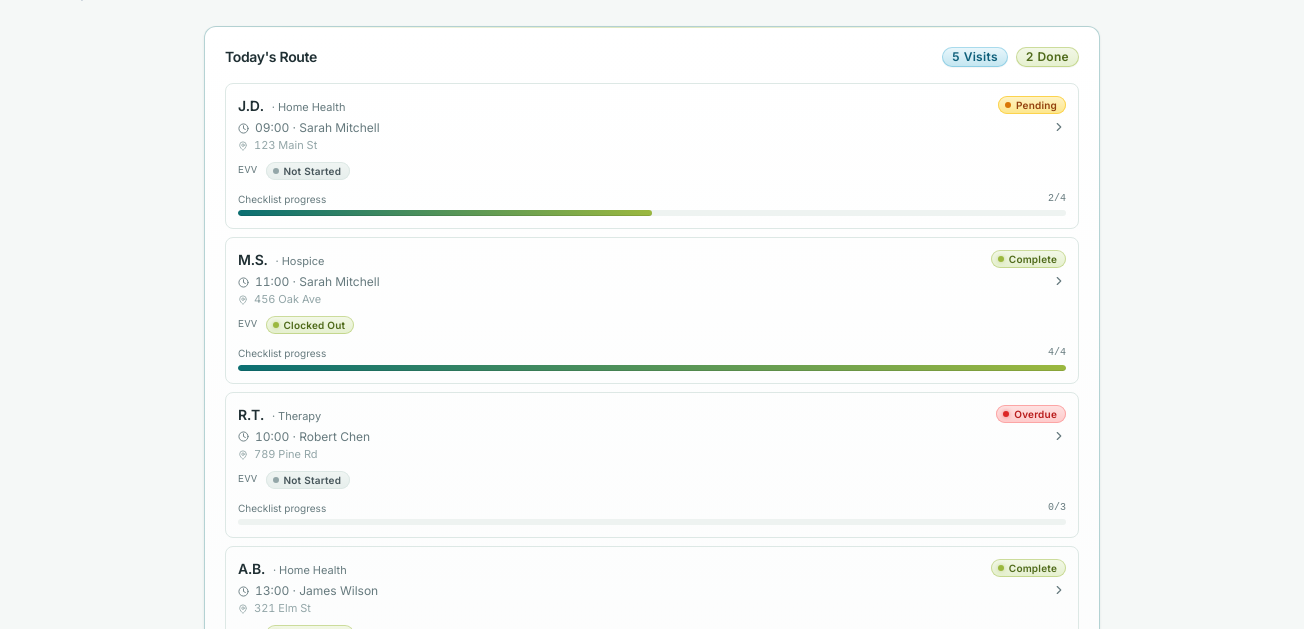
Test case: Fix #3 — Field Assistant EVV validation › blocks "Visit Verification Exception" when checklist is incomplete after clock-in
This screenshot has width=1304, height=629.
Click the text "J.D." at (251, 106), box [238,96,264,116]
(page scrolled)
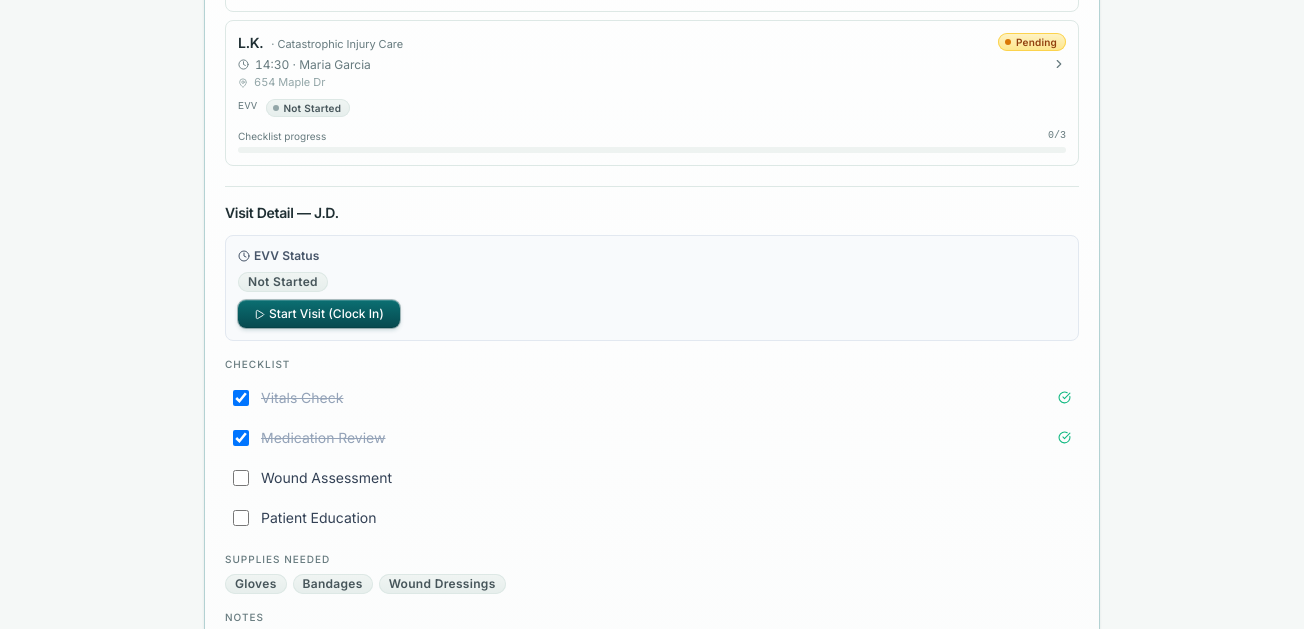
Click the button "Start Visit (Clock In)" at (319, 314), box [238,300,400,328]
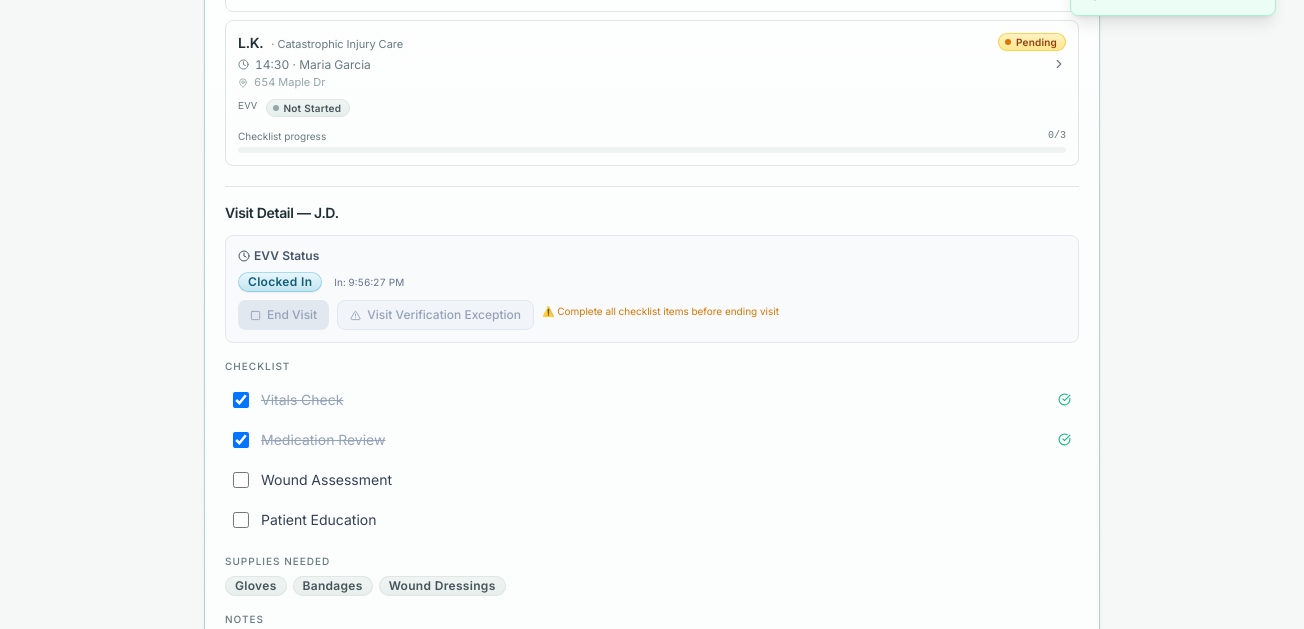
Now the button "Visit Verification Exception" is disabled, box [337,300,534,330]
